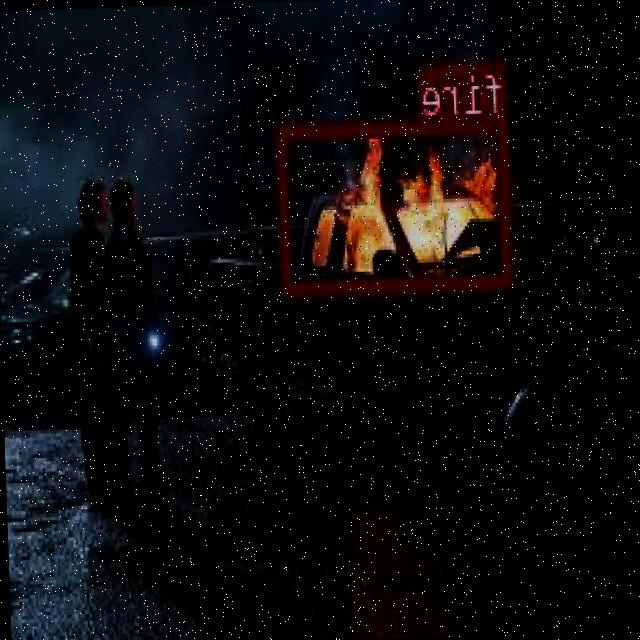fire: (278, 115, 516, 292)
